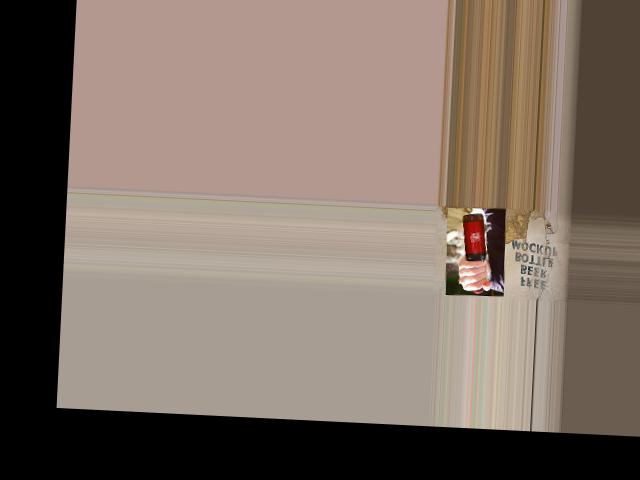beer: (459, 212, 487, 293)
